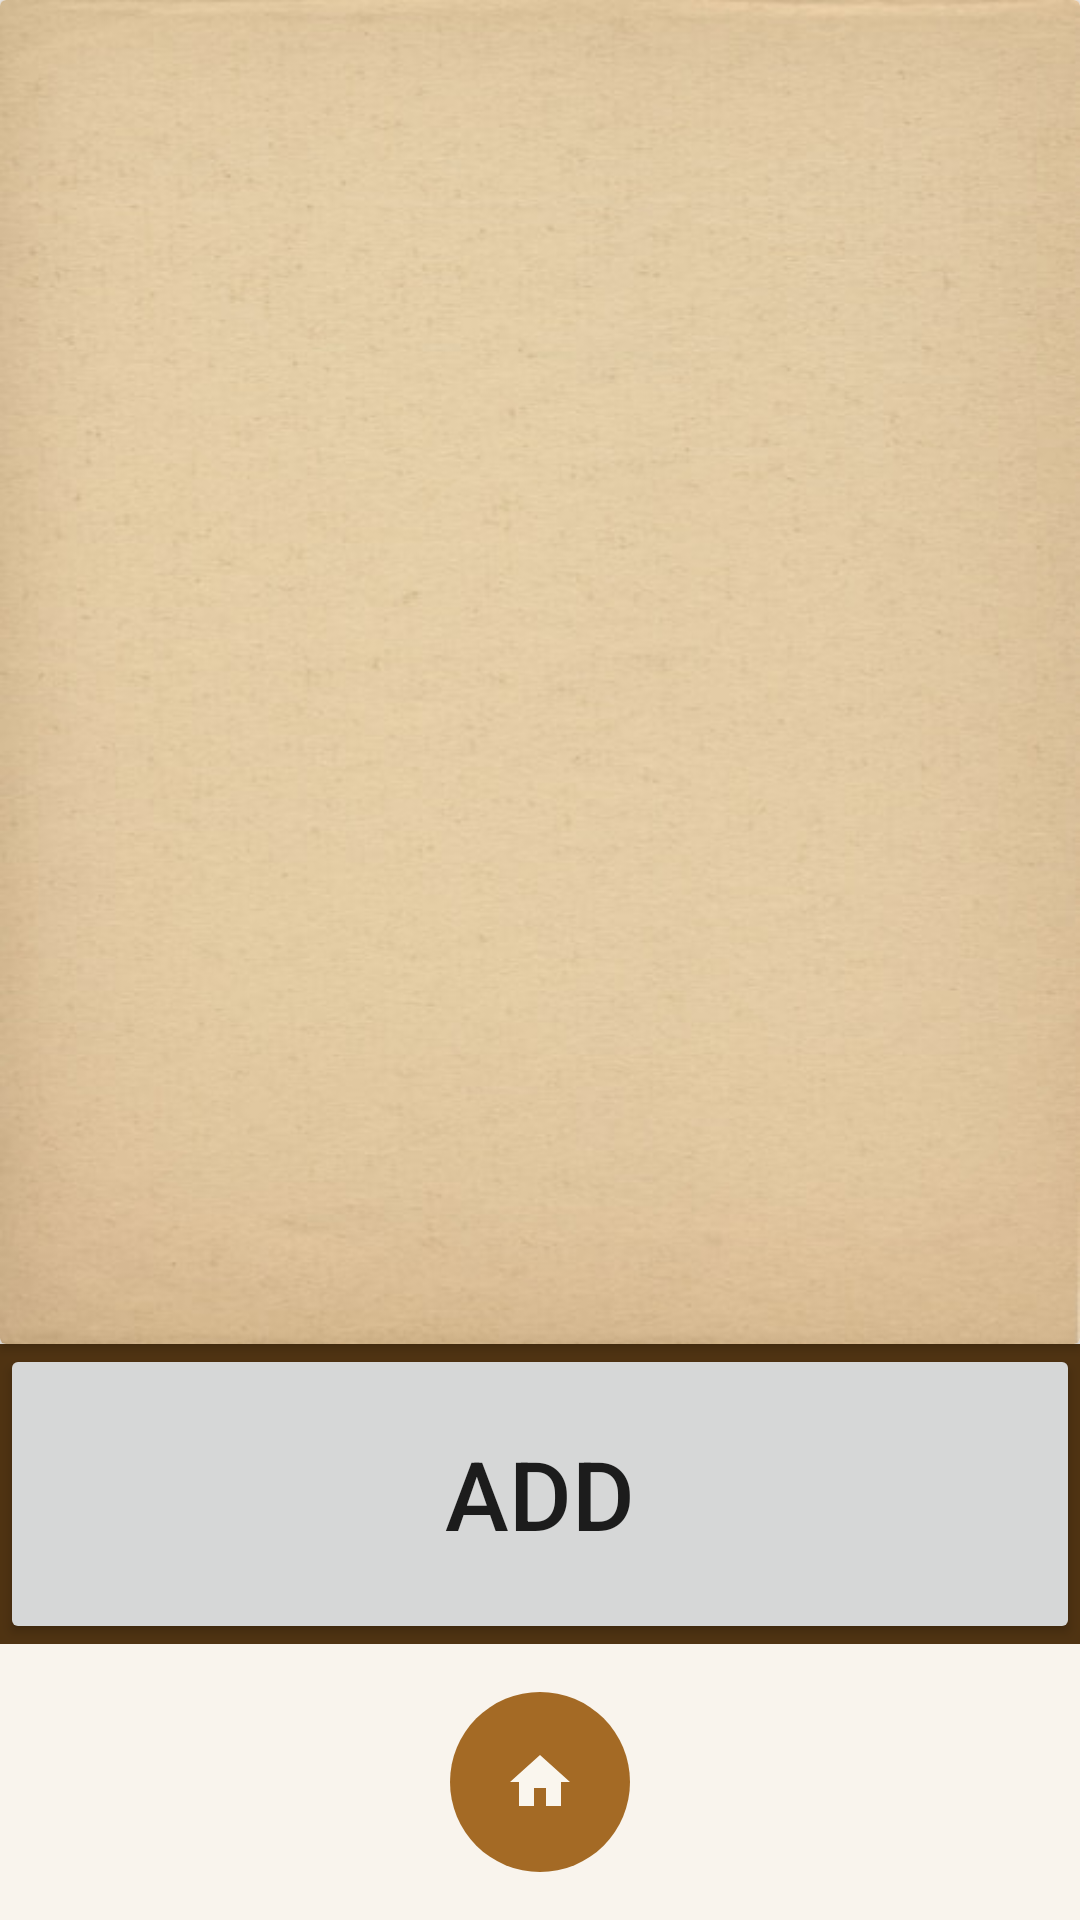

Icon bounding boxes for this 1080 x 1920 phone screenshot, format (x1, y1, x2, y2):
home: (450, 1692, 630, 1872)
